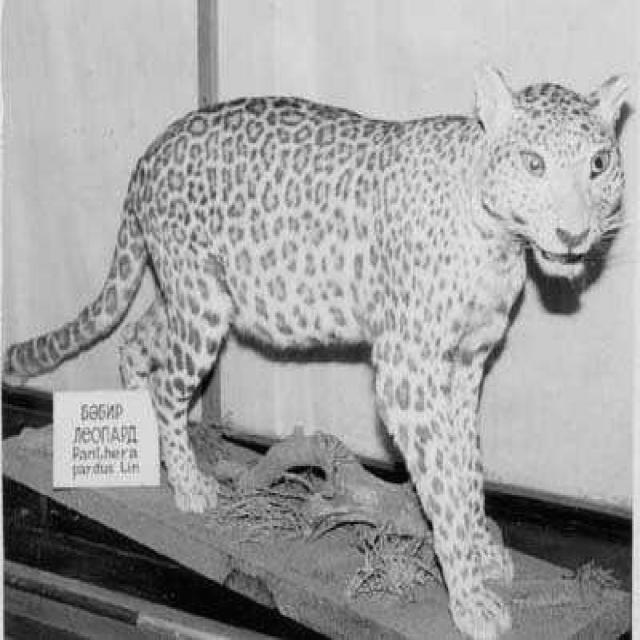Leopard: (0, 60, 629, 638)
